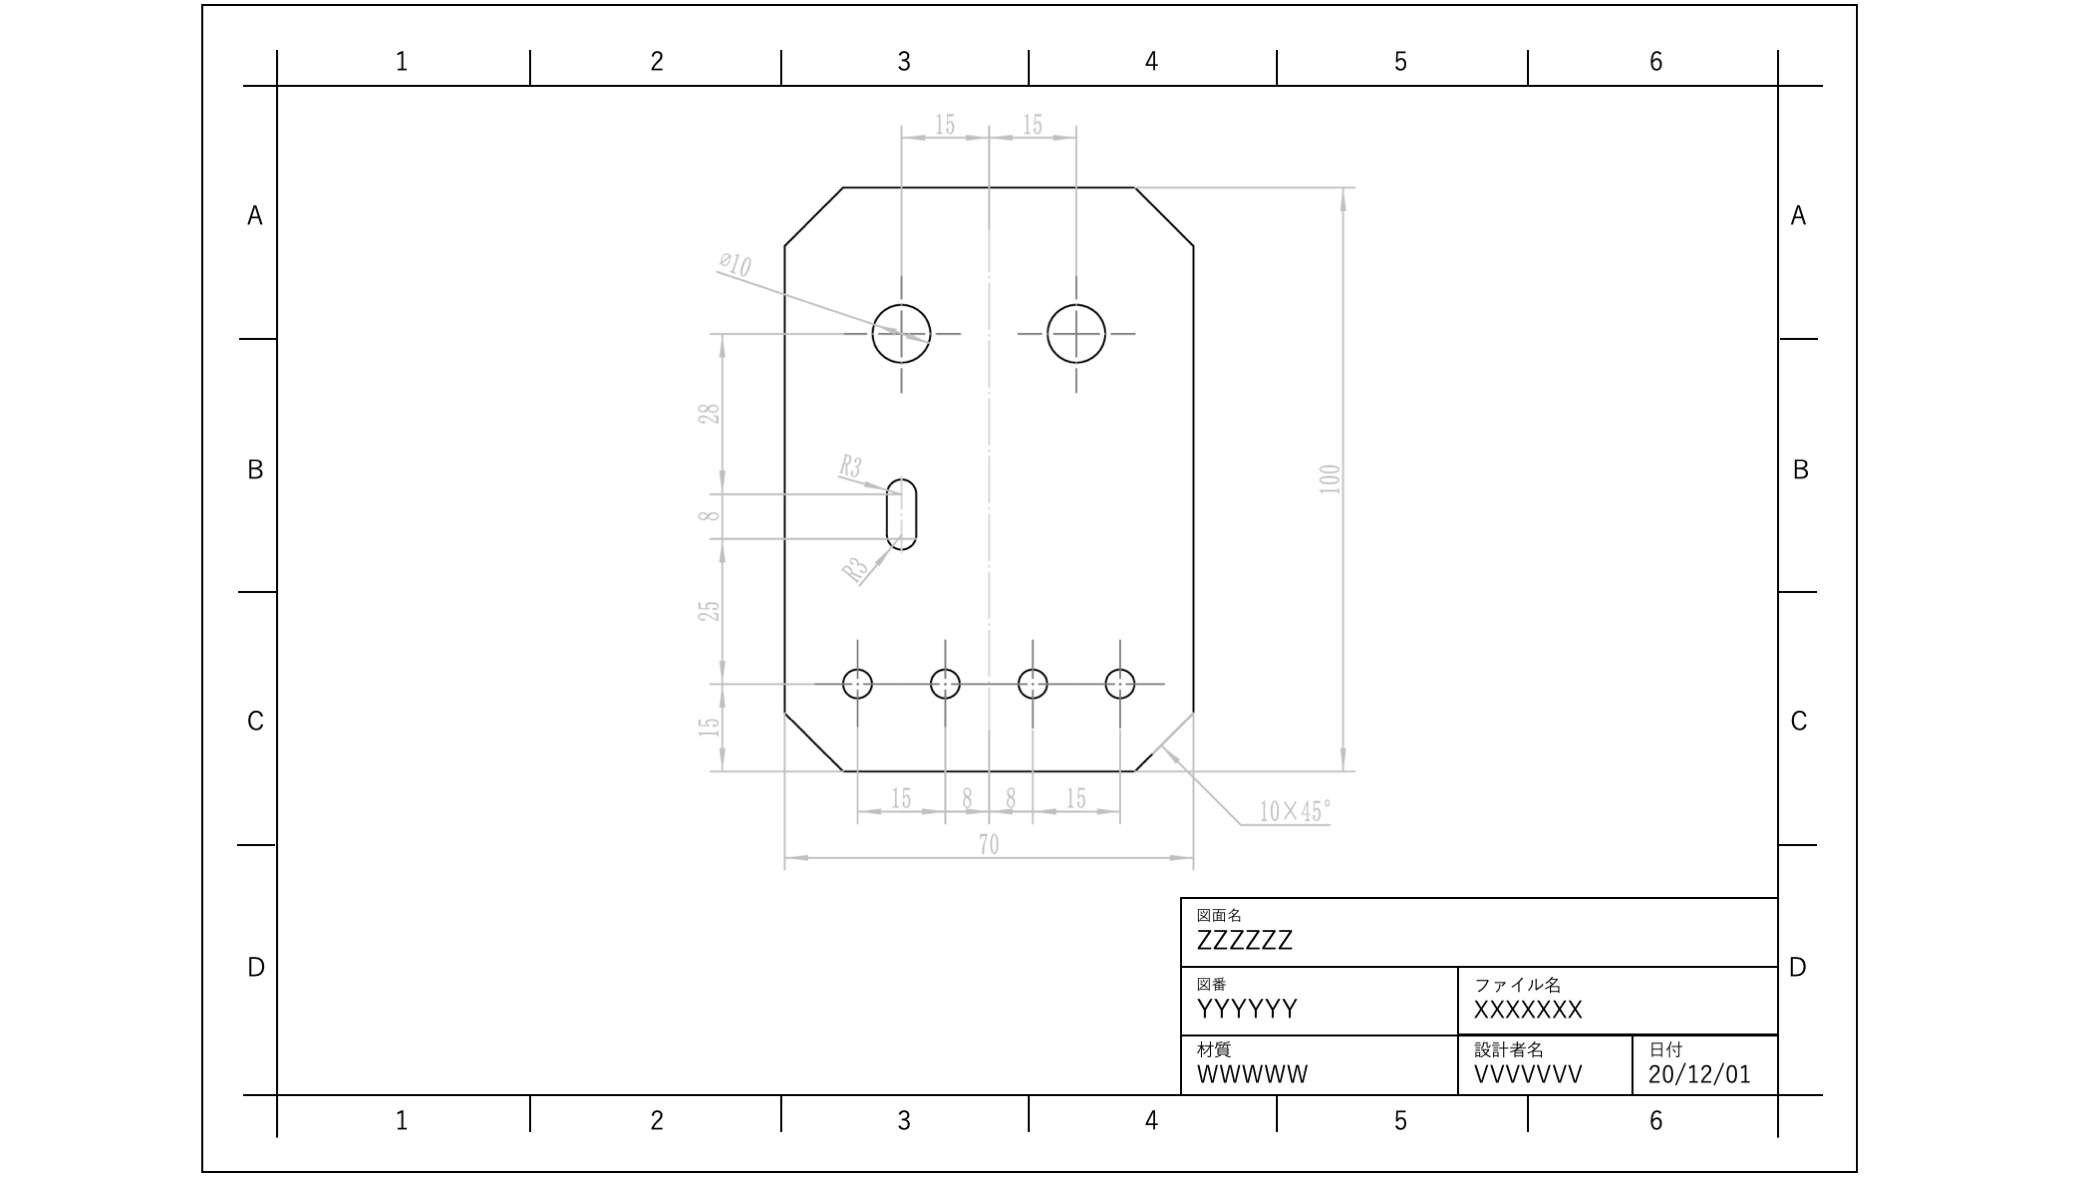circle: (865, 298, 956, 375), (1046, 301, 1122, 373), (1095, 665, 1147, 707), (1014, 658, 1054, 709), (837, 650, 873, 702), (926, 663, 965, 709)
round_rectangle: (873, 470, 926, 558)
